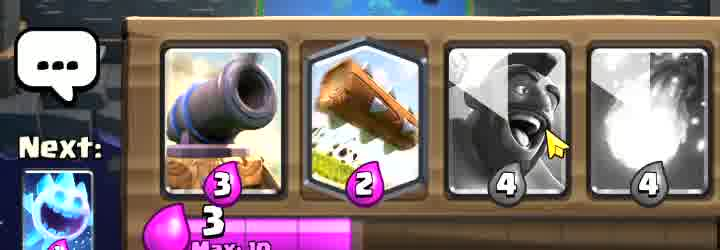ice-spirit: (25, 171, 93, 250)
log: (310, 42, 424, 194)
